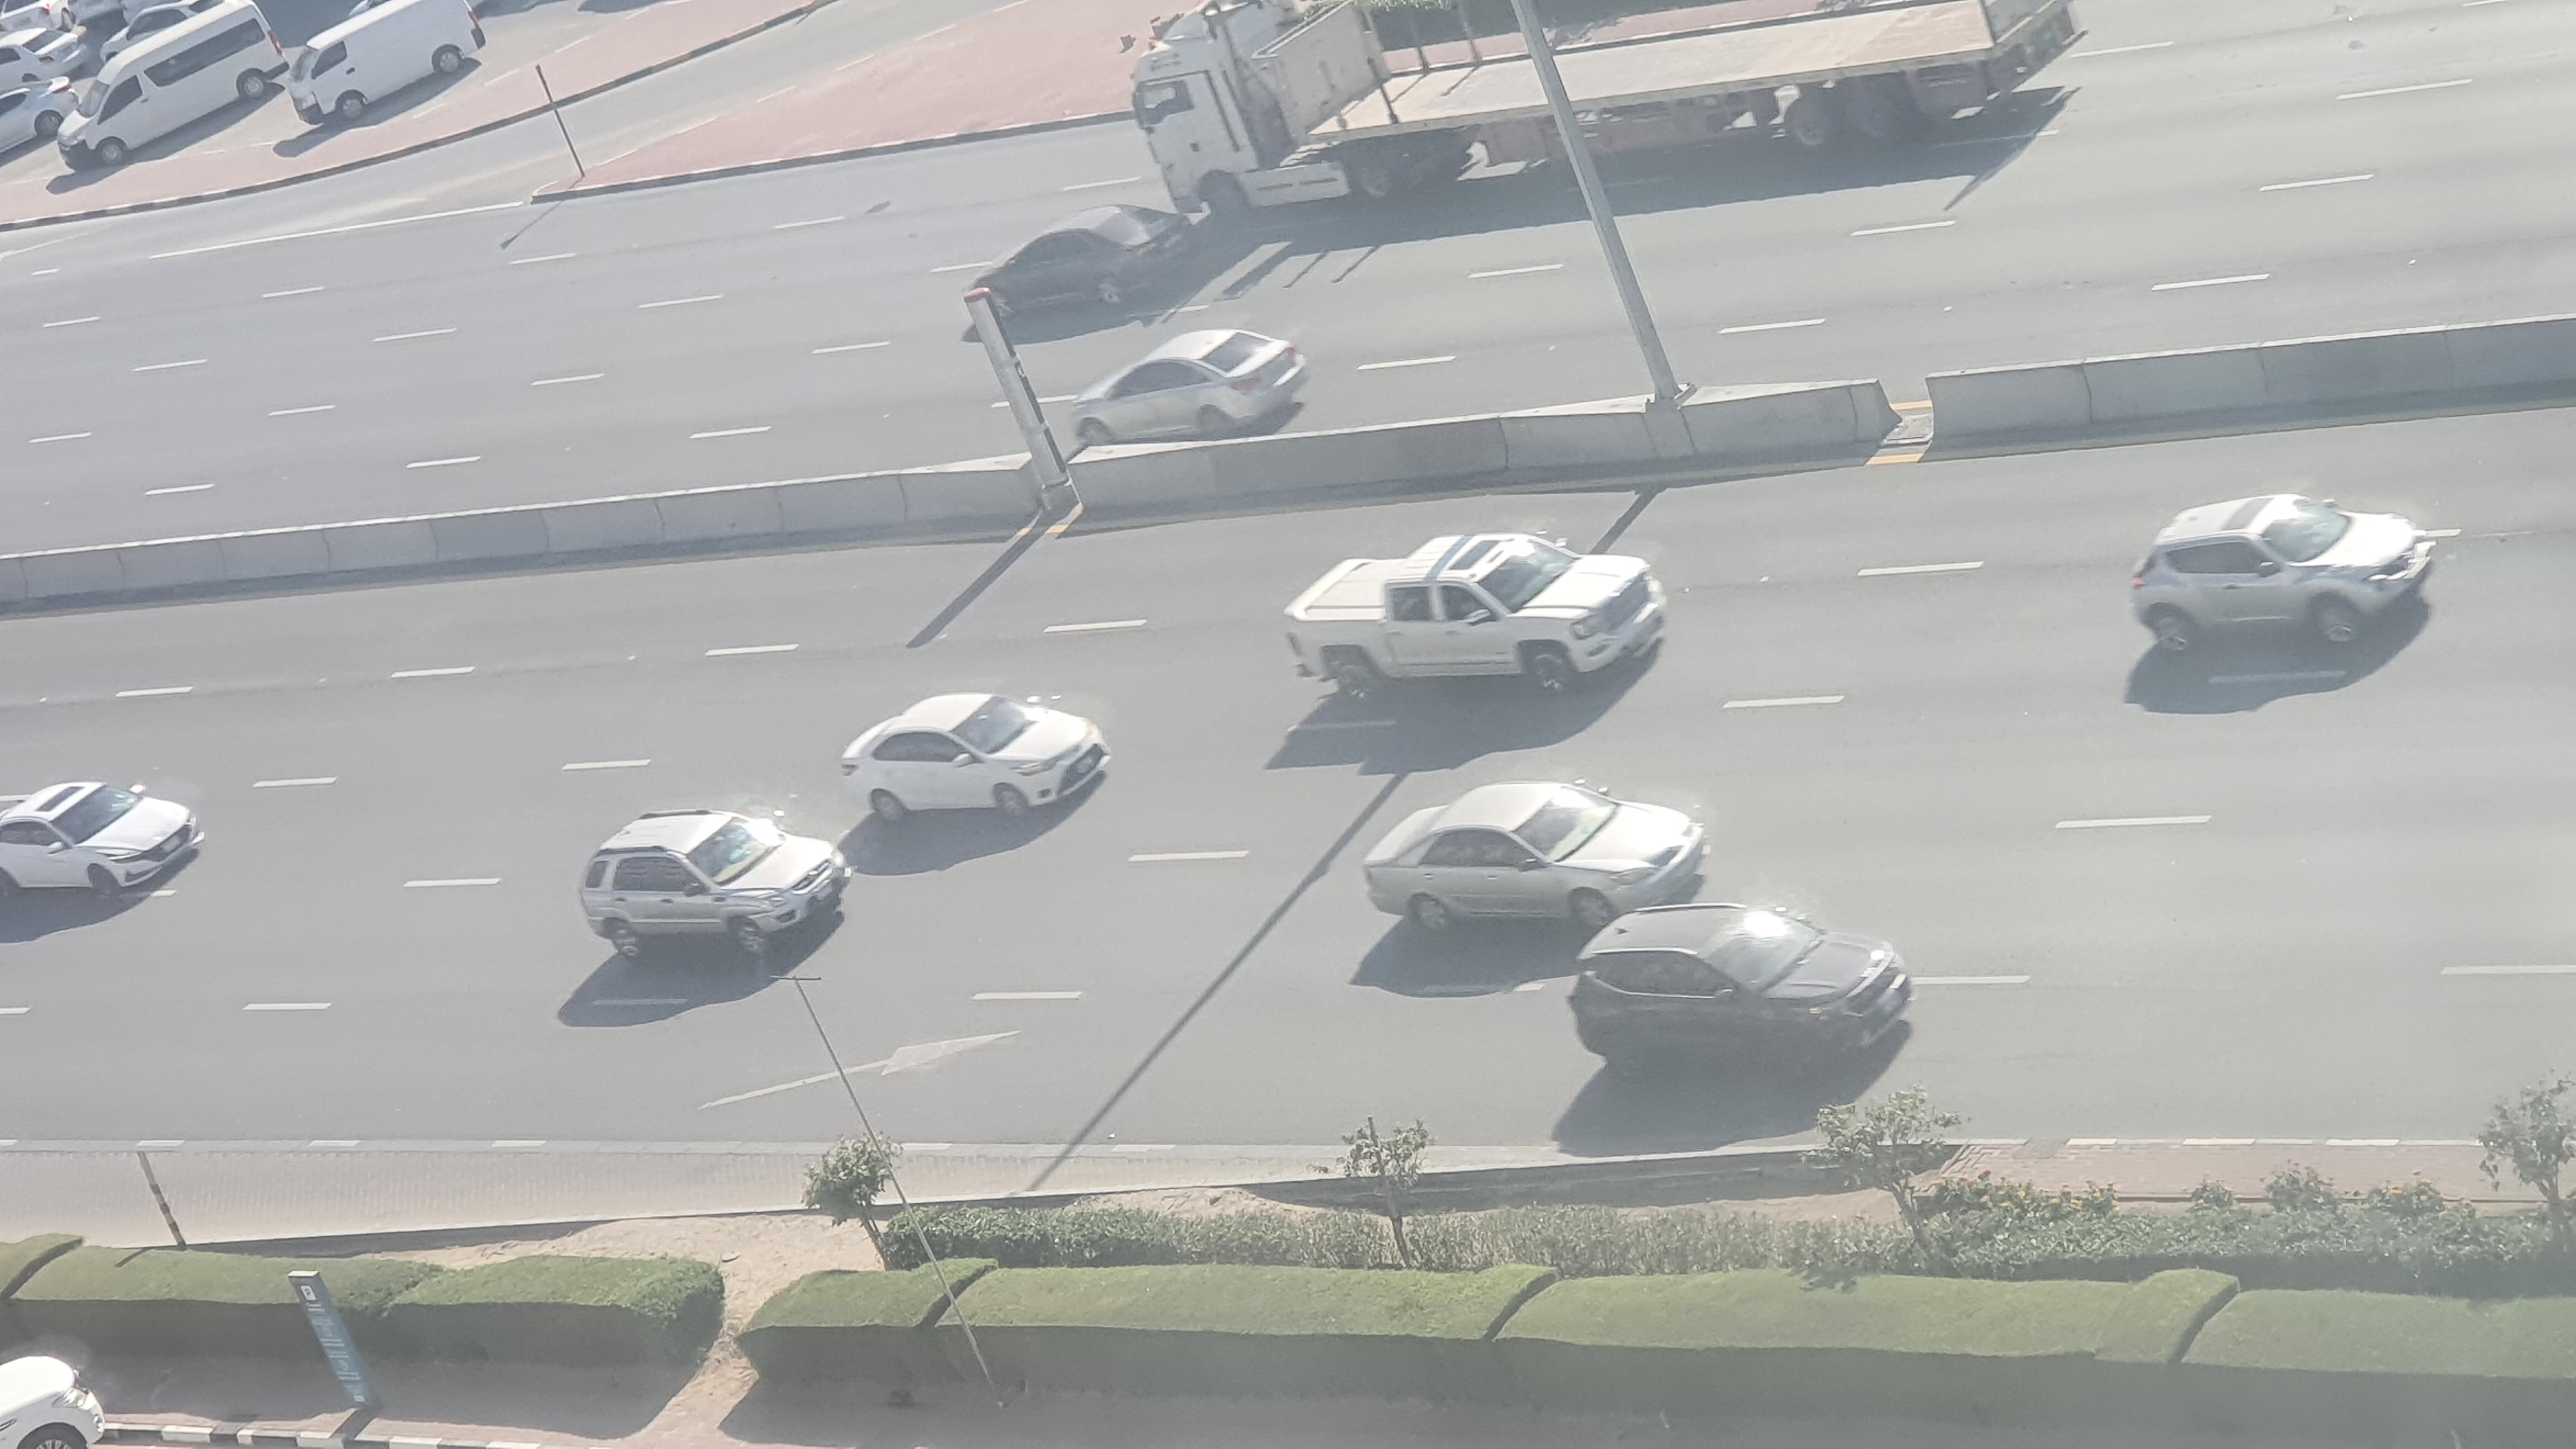NotSunroof: (1573, 897, 1916, 1074), (1373, 780, 1704, 927), (566, 810, 858, 955), (835, 686, 1113, 832)
Sunroof: (1284, 533, 1661, 697), (2121, 488, 2449, 656), (0, 780, 200, 906)
